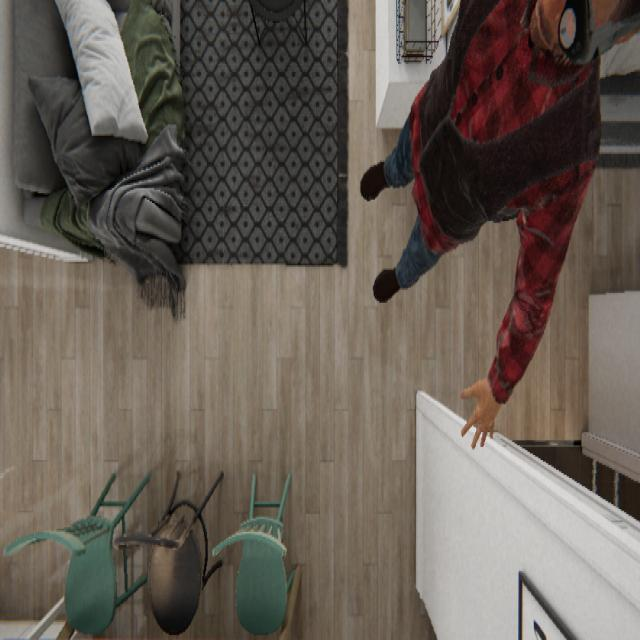Human: (359, 0, 638, 450)
